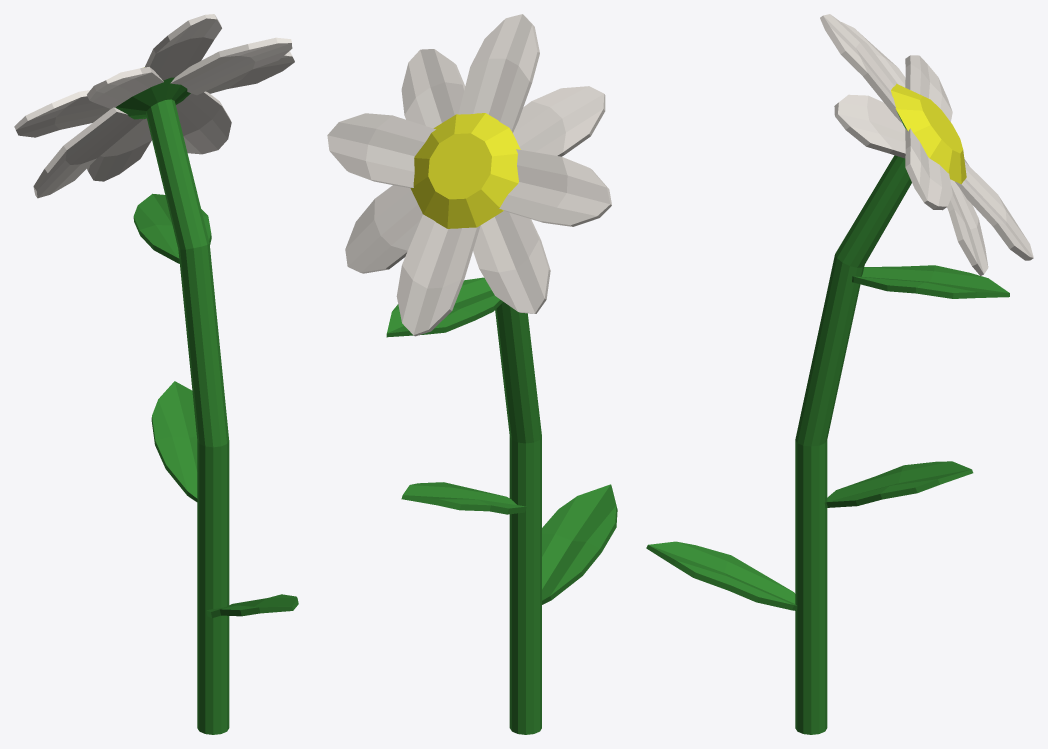
The model's file is Flower1.3.fbx.
The picture shows the model from 3 angles, left to right: view 1: azimuth 30°, elevation 25°; view 2: azimuth 150°, elevation 25°; view 3: azimuth 270°, elevation 25°; orthographic projection.
Parts seen in each view (by area): view 1: Flower1.3; view 2: Flower1.3; view 3: Flower1.3.
Boxes of the visible parts, x1,y1,x2,y2 form: Flower1.3: [14, 14, 298, 734]; Flower1.3: [327, 14, 617, 734]; Flower1.3: [646, 14, 1033, 734].
Bounding box in the file's own units: 14.6 × 35.43 × 17.5.
